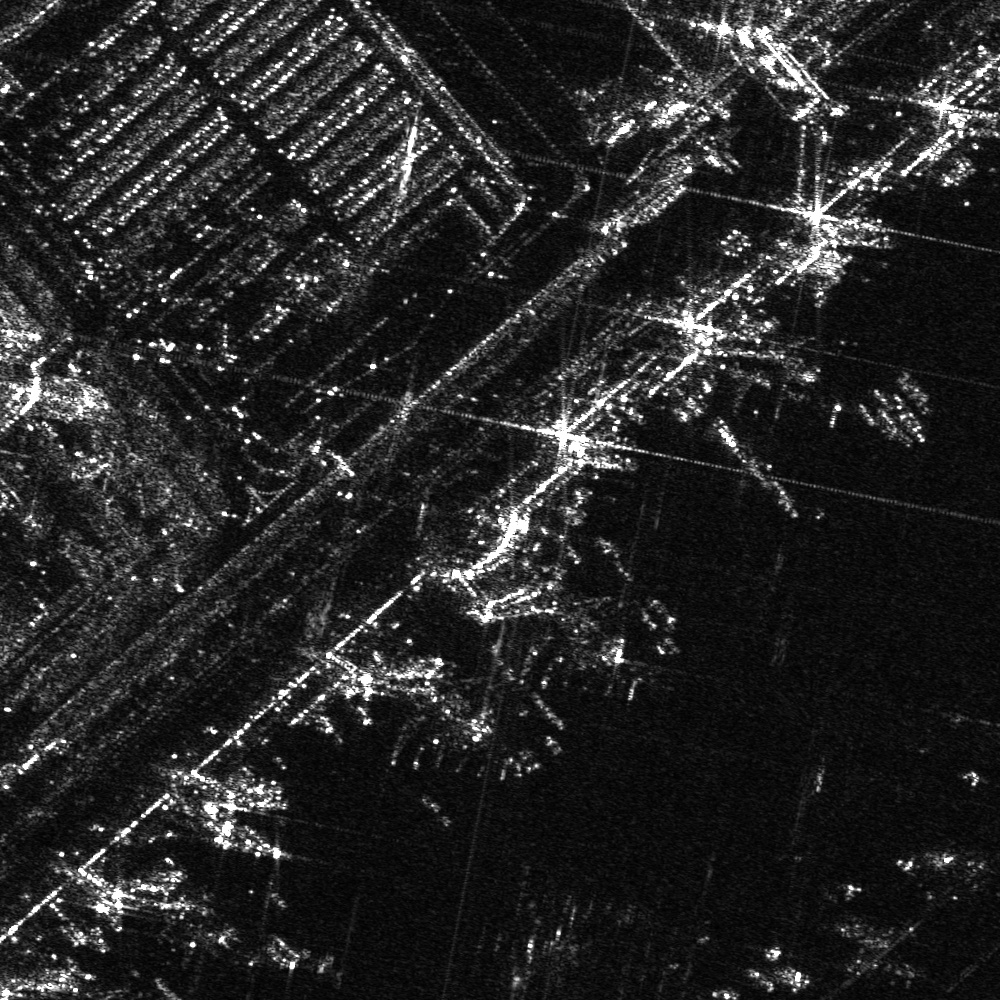A330: (731, 326, 851, 426)
Boeing737: (385, 675, 545, 786), (524, 588, 672, 697), (835, 914, 943, 999), (911, 841, 999, 916)
